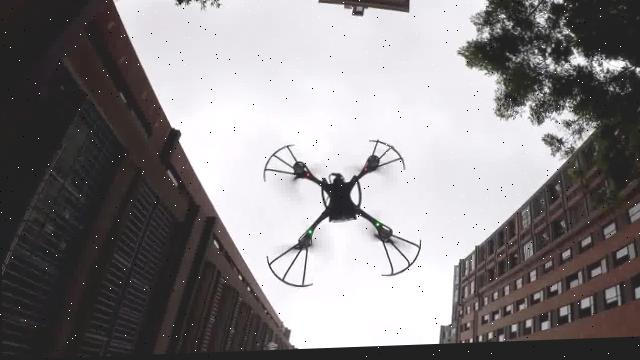drone: (259, 132, 427, 288)
